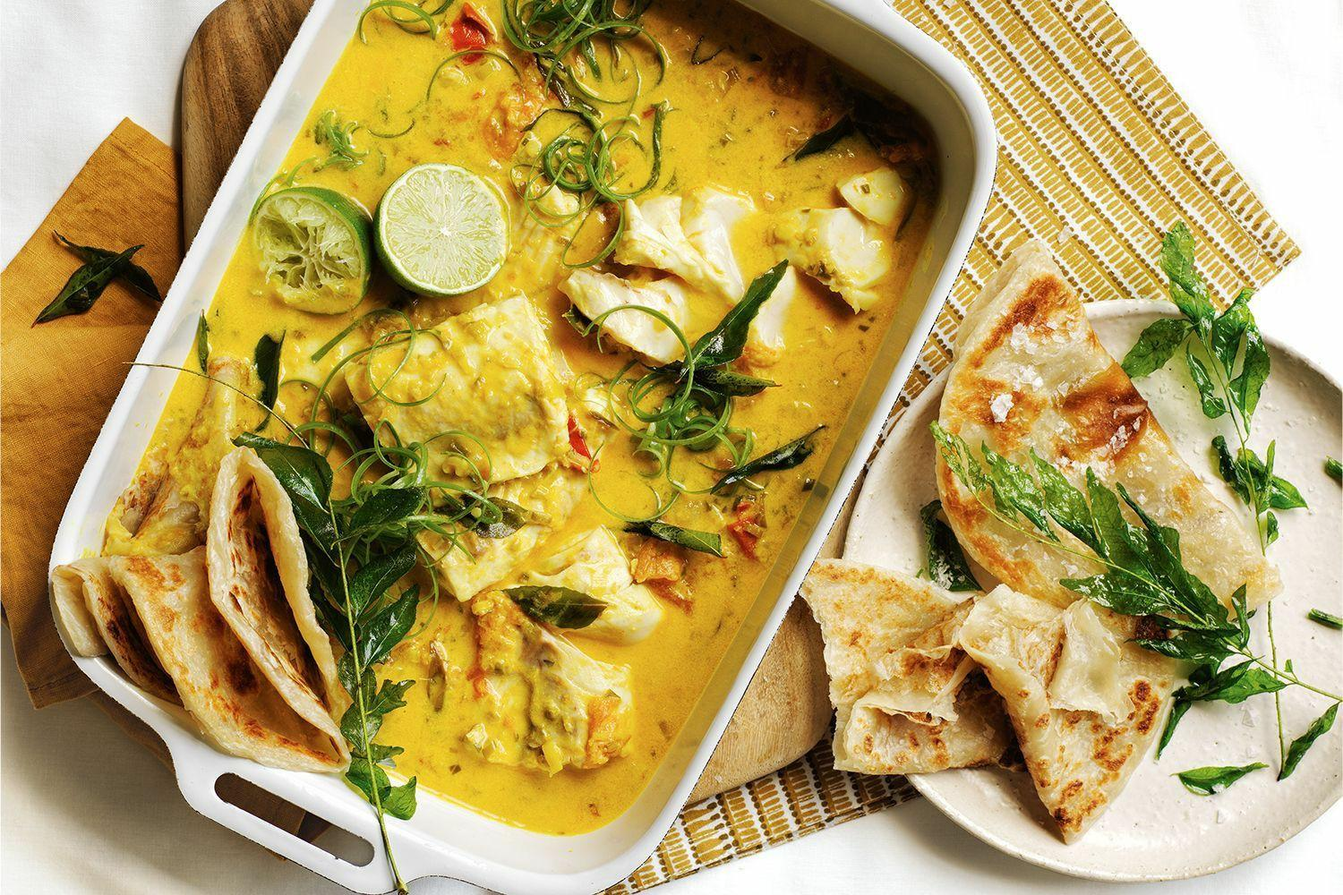FishCurry: (97, 0, 940, 836)
